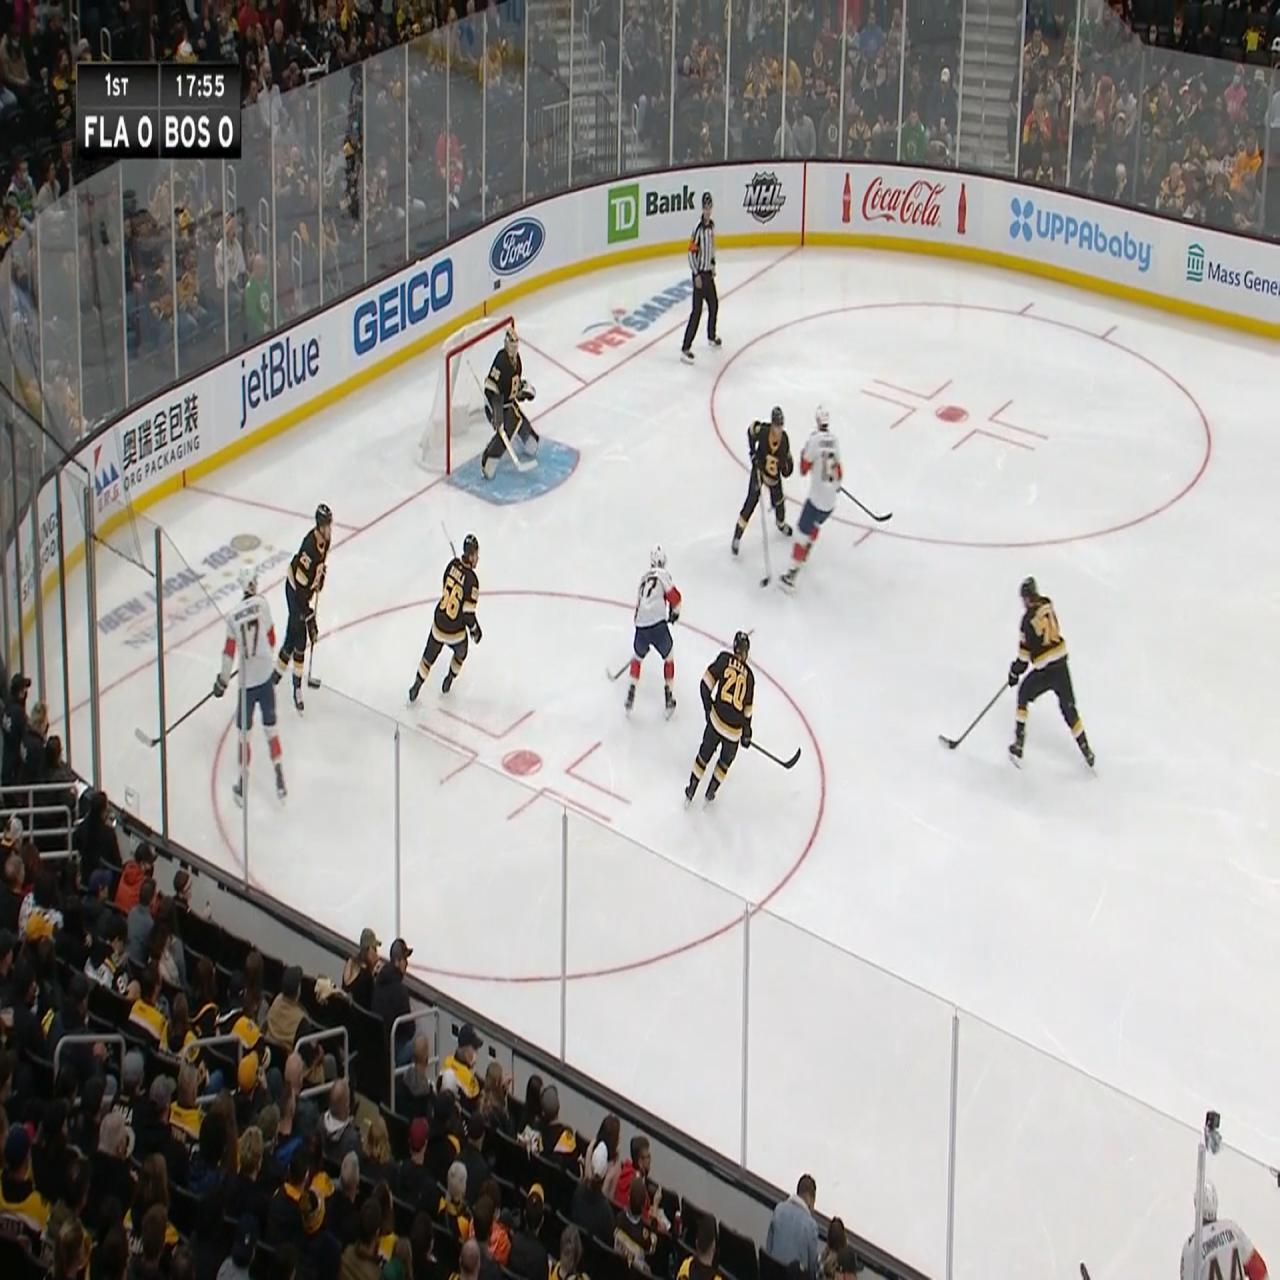Ad: (98, 524, 302, 659), (94, 393, 206, 524), (577, 267, 704, 366), (1012, 192, 1152, 274), (355, 253, 455, 366), (239, 320, 322, 421), (838, 176, 975, 231), (1184, 241, 1280, 307), (606, 176, 700, 236), (488, 211, 549, 278), (740, 170, 790, 223)
